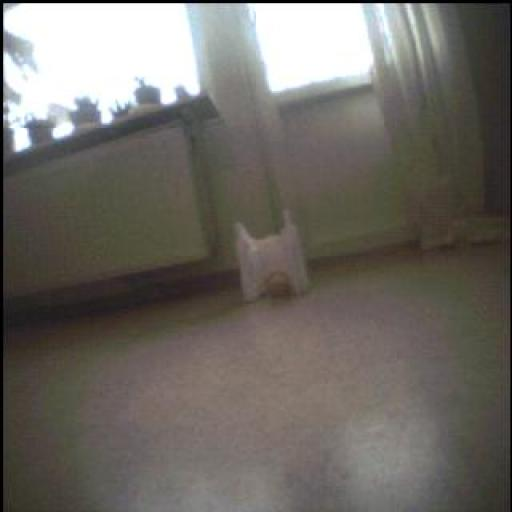Basket: (264, 270, 292, 302)
